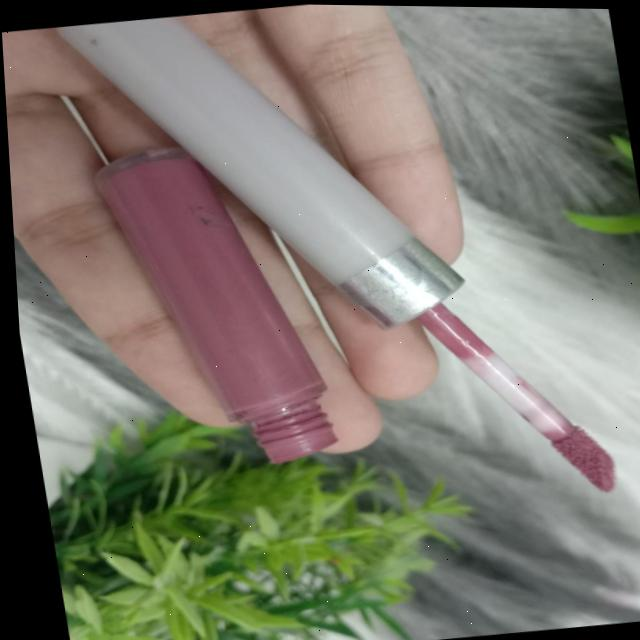lip gloss: (16, 0, 630, 556)
